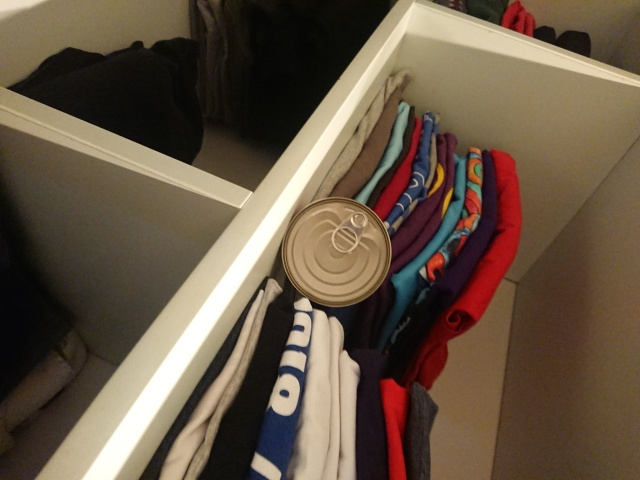Giana Tuna Salad Mexico 185g: (279, 195, 394, 310)
